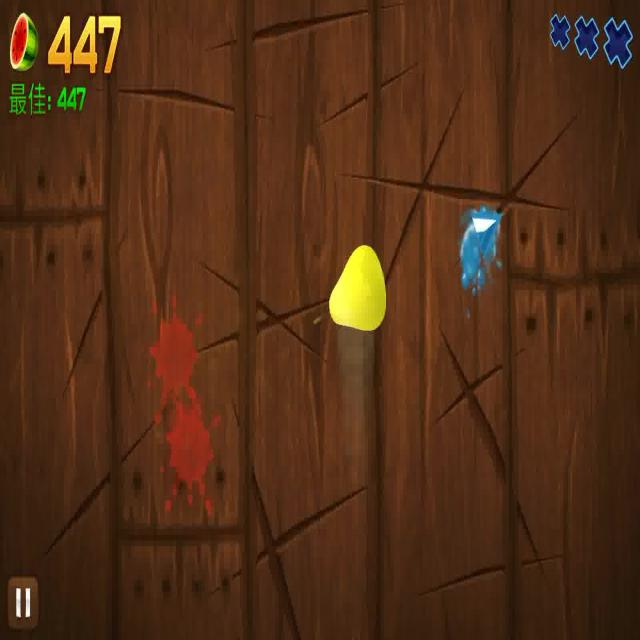fruit: (311, 245, 386, 332)
